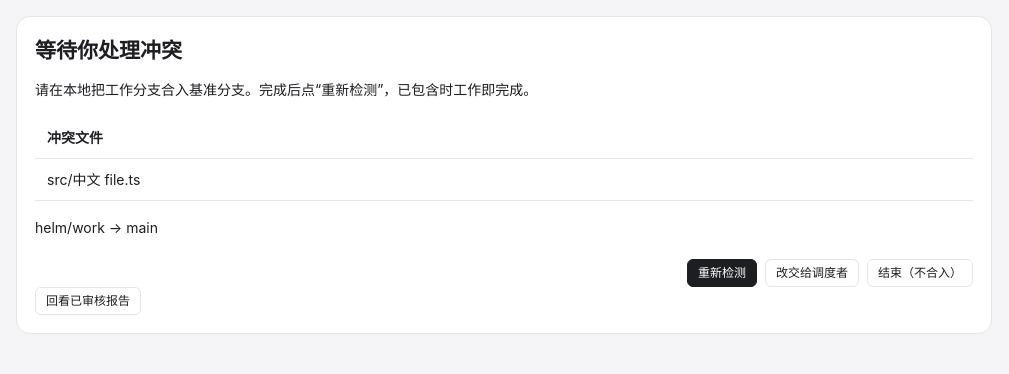
it: 自己处理后提供重新检测和改交给调度者，不在检测时合入
Expected: the heading "等待你处理冲突" is shown, x1=35 y1=38 x2=182 y2=63
Expected: the text "helm/work → main" is shown, x1=35 y1=219 x2=158 y2=236
Click the button "重新检测".
click(722, 273)  # box x1=687 y1=259 x2=757 y2=287
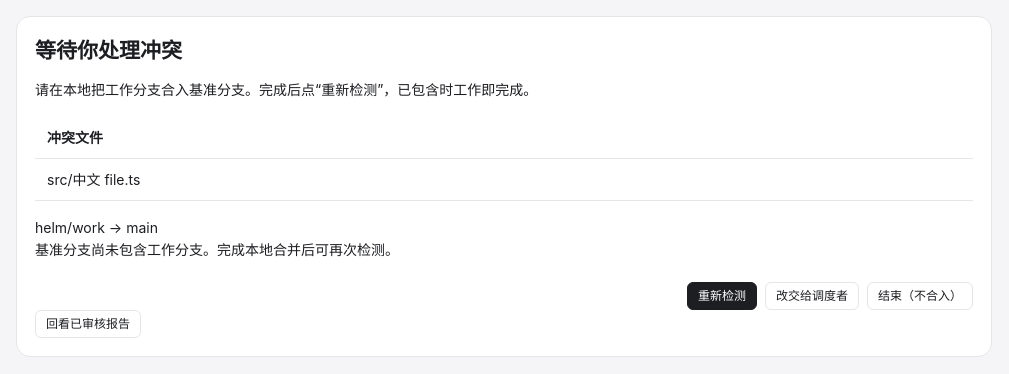
Expected: the message "基准分支尚未包含工作分支。完成本地合并后可再次检测。" is shown, x1=35 y1=241 x2=399 y2=258
